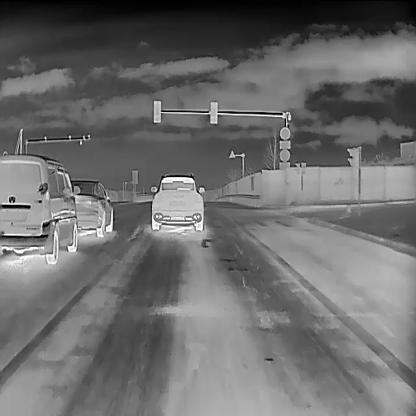car: (0, 152, 80, 264), (150, 171, 204, 231), (67, 177, 114, 237)
